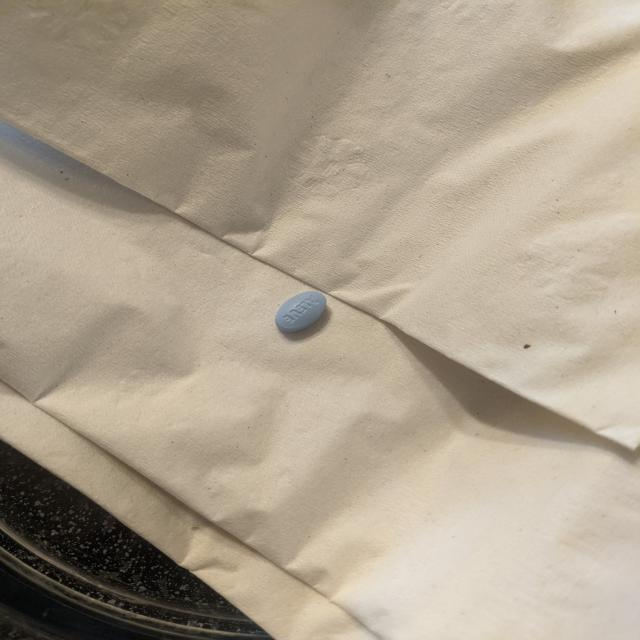non-organic waste: (274, 290, 327, 333)
